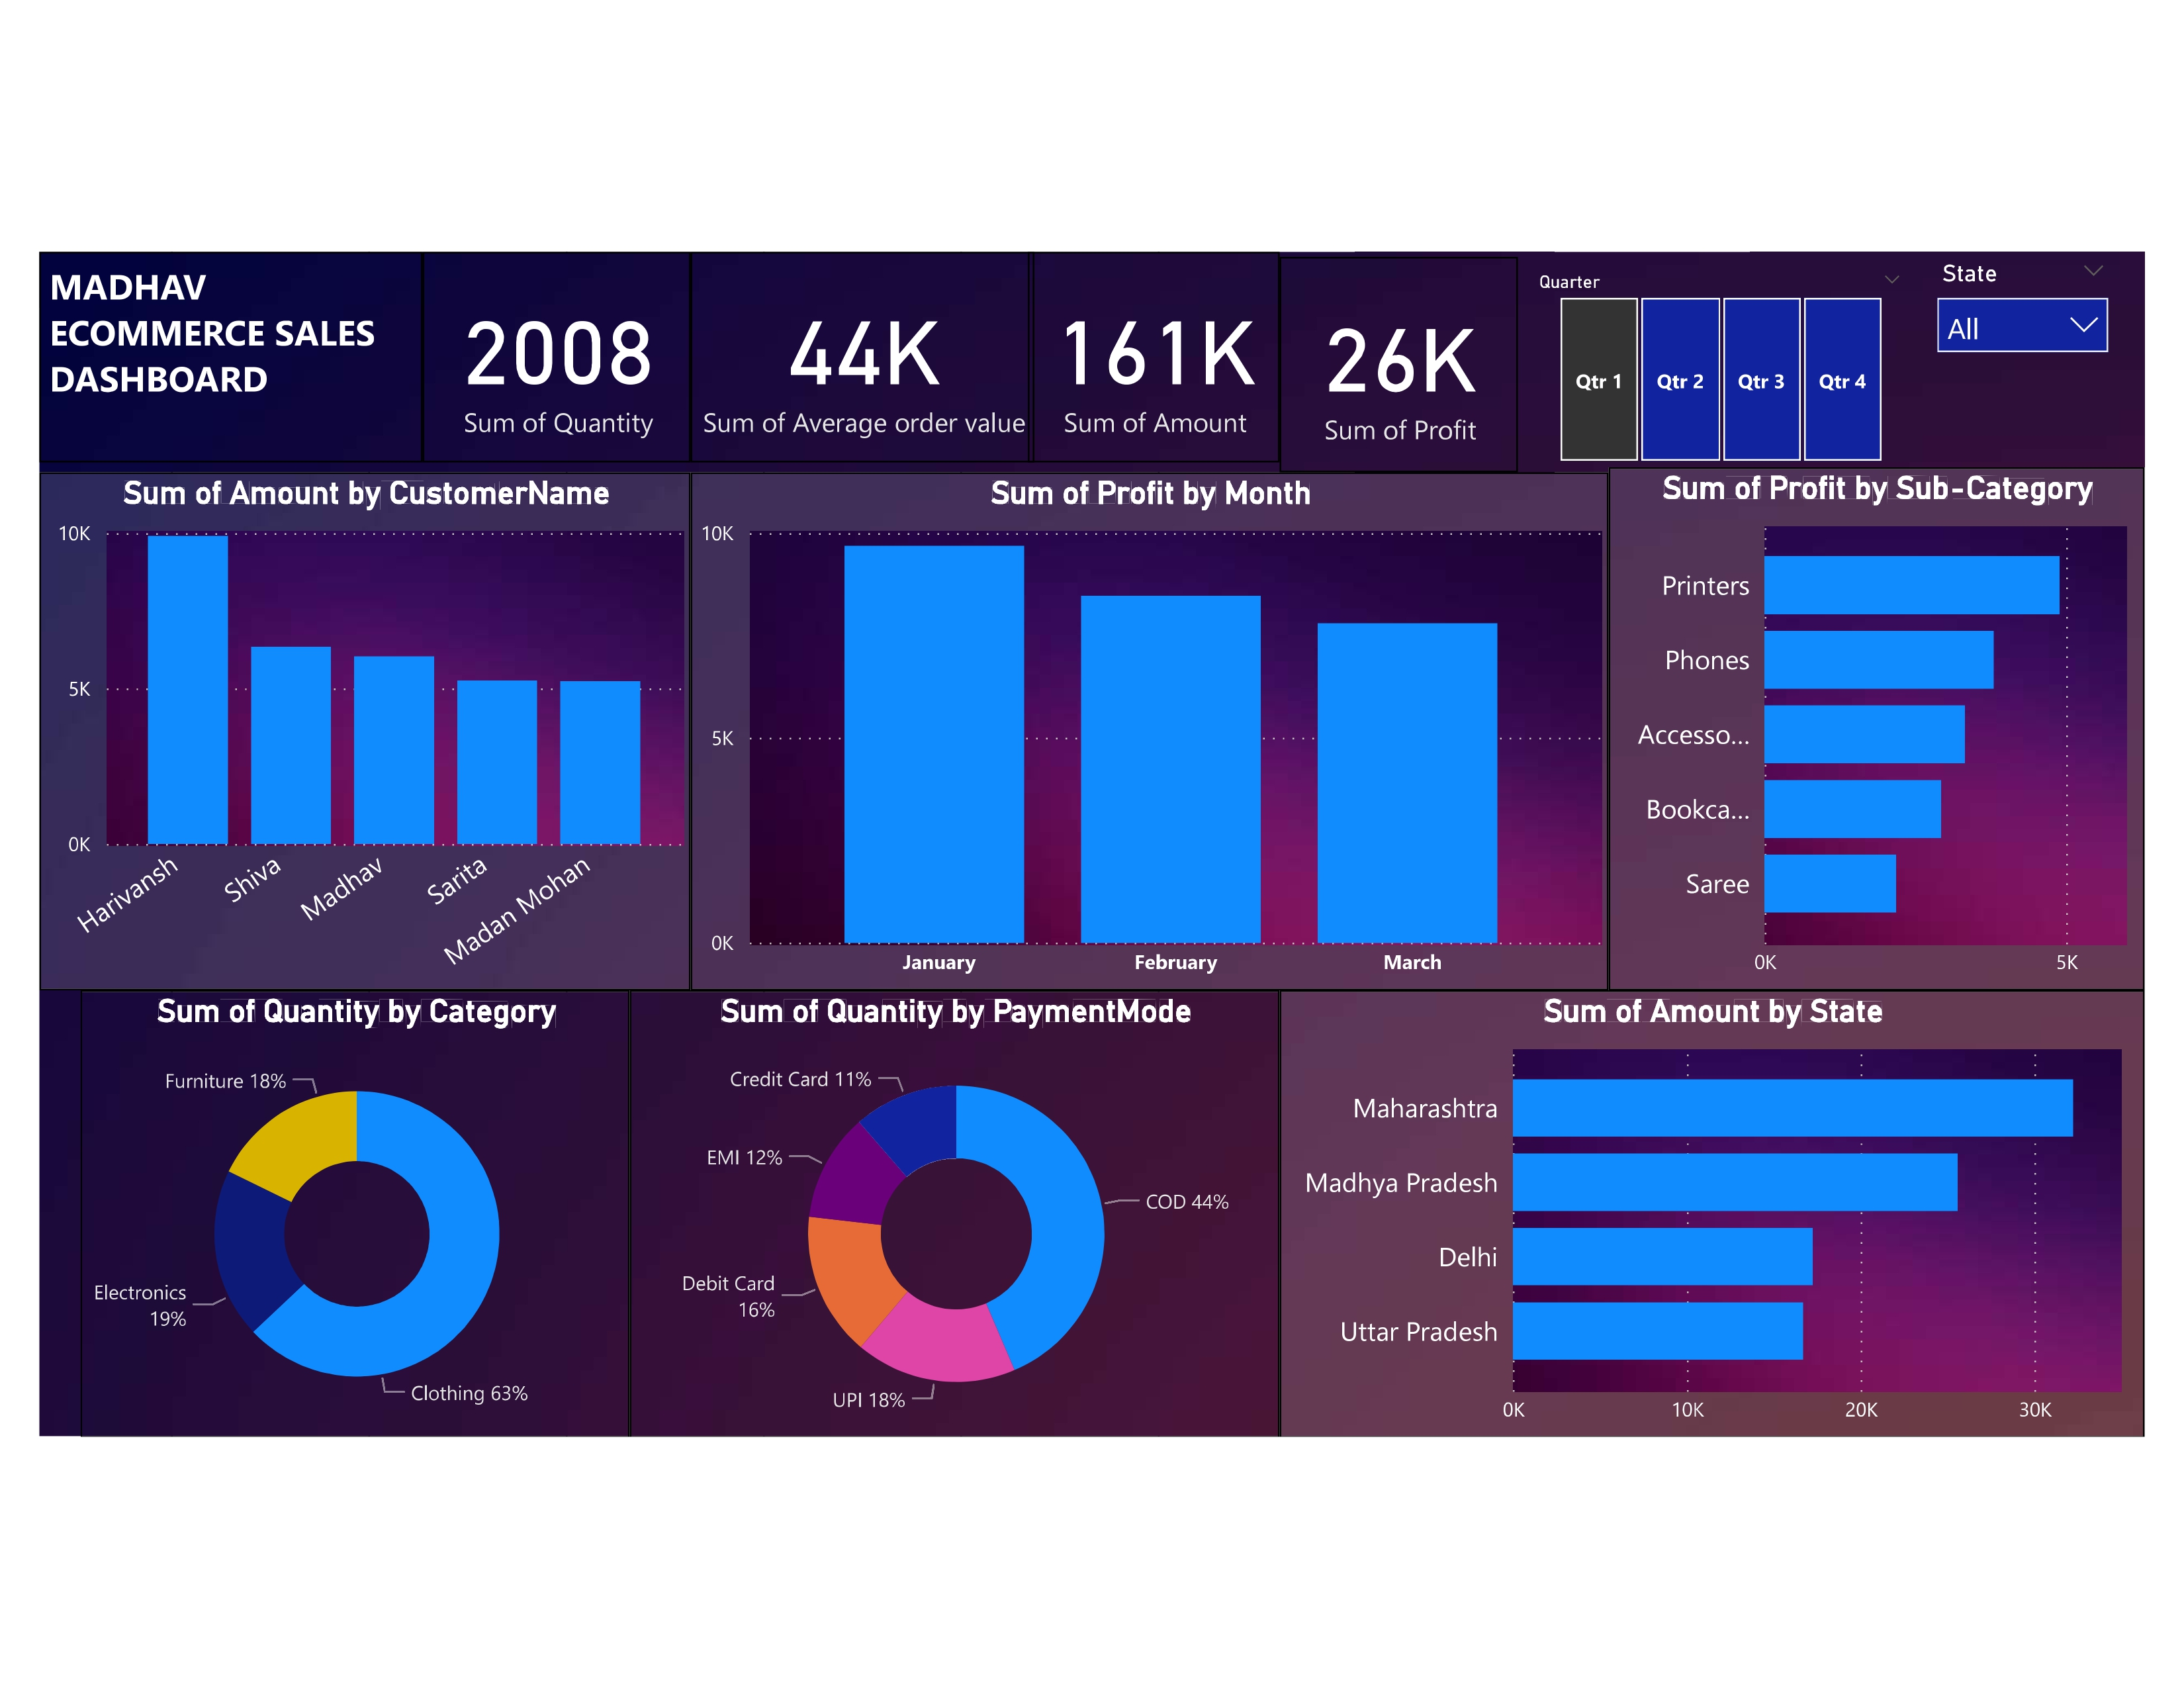

What the dashboard file says about the page in this screenshot:
{"tool":"powerbi","page":{"name":"Page 1","canvas":[1280,720],"ordinal":0},"visuals":[{"type":"columnChart","fields":{"Y":["Details.Profit"],"Category":["Orders.Order Date.Variation.Date Hierarchy.Month"]},"box":[300,120,298.9,240],"z":0},{"type":"textbox","box":[0,0,226,122],"z":1000},{"type":"barChart","fields":{"Y":["Details.Profit"],"Category":["Details.Sub-Category"]},"box":[596.2,122.5,386.2,237.5],"z":2000},{"type":"donutChart","fields":{"Category":["Details.Category"],"Y":["Details.Quantity"]},"box":[0,360,295.6,220],"z":3000},{"type":"donutChart","fields":{"Category":["Details.PaymentMode"],"Y":["Details.Quantity"]},"box":[295.6,360,303.3,220],"z":4000},{"type":"card","fields":{"Values":["Details.Amount"]},"box":[365.8,0,141.8,119],"z":5000},{"type":"card","fields":{"Values":["Details.Quantity"]},"box":[225.6,0,140,122.2],"z":6000},{"type":"barChart","fields":{"Y":["Details.Amount"],"Category":["Orders.State"]},"box":[598.9,360,383.3,228.9],"z":8000},{"type":"columnChart","fields":{"Category":["Orders.CustomerName"],"Y":["Details.Amount"]},"box":[0,122.2,300,237.8],"z":9000},{"type":"slicer","fields":{"Values":["Orders.Order Date.Variation.Date Hierarchy.Quarter"]},"box":[640.2,0,249.4,119.5],"z":10000},{"type":"slicer","fields":{"Values":["Orders.State"]},"box":[889.7,13.8,92,105.7],"z":11000},{"type":"card","fields":{"Values":["Details.Profit"]},"box":[510.3,0,134.5,119.5],"z":12000}]}

Visuals, with their boxes on the page's 1280x720 design canvas (x1, y1, x2, y2). These are canvas units, not pixel positions in the 2184x1688 screenshot, which may show the page scaled, cropped or inside an application window:
columnChart - Details.Profit x Orders.Order Date.Variation.Date Hierarchy.Month: 300:120:599:360
textbox: 0:0:226:122
barChart - Details.Profit x Details.Sub-Category: 596:122:982:360
donutChart - Details.Category x Details.Quantity: 0:360:296:580
donutChart - Details.PaymentMode x Details.Quantity: 296:360:599:580
card - Details.Amount: 366:0:508:119
card - Details.Quantity: 226:0:366:122
barChart - Details.Amount x Orders.State: 599:360:982:589
columnChart - Orders.CustomerName x Details.Amount: 0:122:300:360
slicer - Orders.Order Date.Variation.Date Hierarchy.Quarter: 640:0:890:120
slicer - Orders.State: 890:14:982:120
card - Details.Profit: 510:0:645:120
